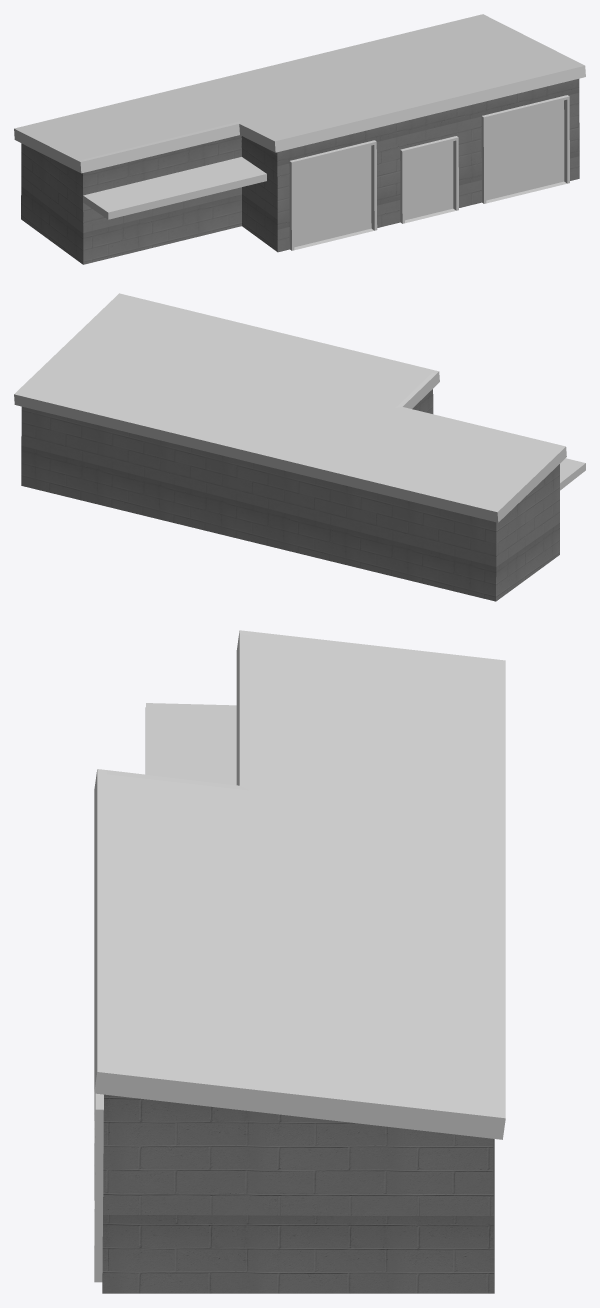
The model's file is BMFD.glb.
The picture shows the model from 3 angles, top to bottom: view 1: azimuth 30°, elevation 25°; view 2: azimuth 150°, elevation 25°; view 3: azimuth 270°, elevation 25°; orthographic projection. The views are drawn at different scales.
Visible parts, largest first — view 1: Cube; view 2: Cube; view 3: Cube.
Boxes of the visible parts, x1,y1,x2,y2 form: Cube: [14, 14, 585, 264]; Cube: [14, 293, 585, 601]; Cube: [94, 630, 505, 1293].
Bounding box in the file's own units: 5.53 × 1.27 × 2.1.
Materials: 2 (1 with a texture image).
